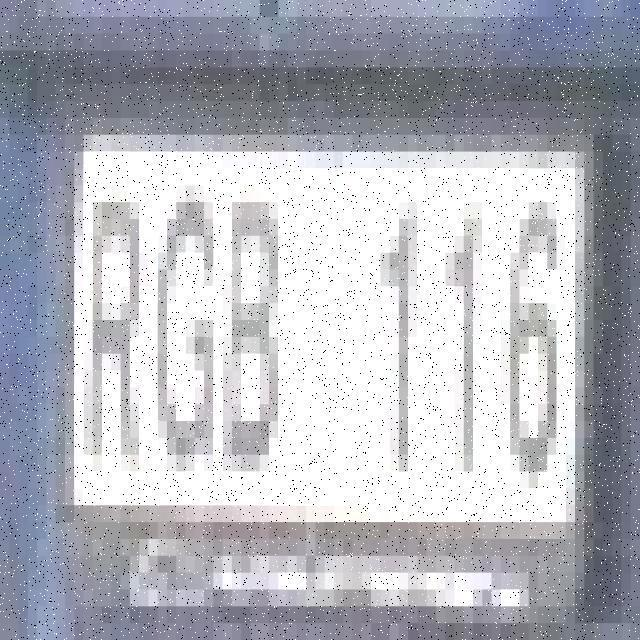LicensePlate: (68, 76, 598, 544)
